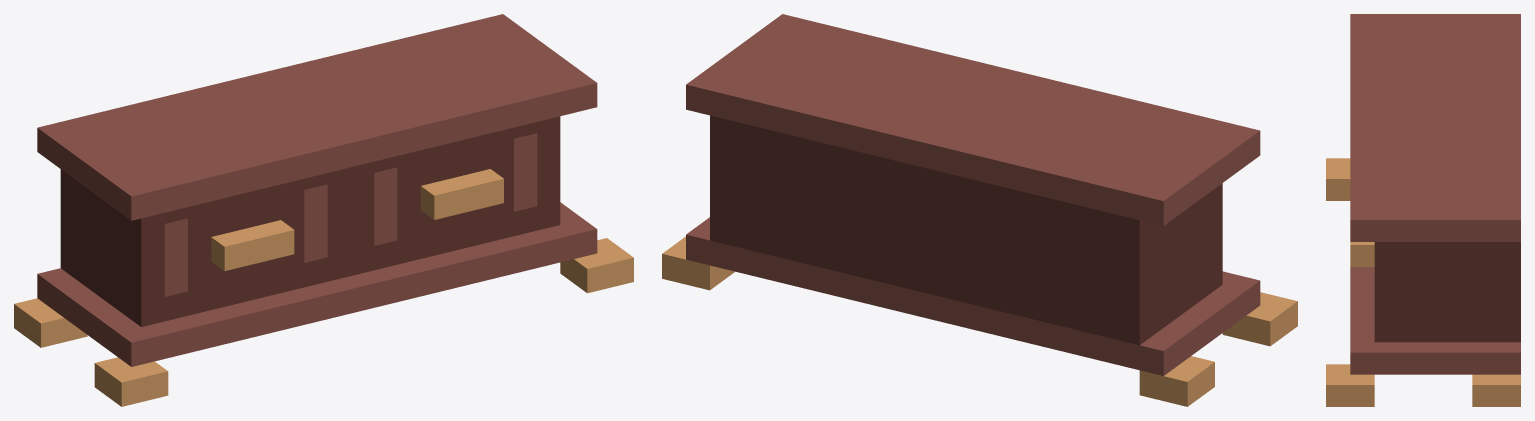
Rendered from CabinetSmallWide.obj.
3 renders of one model, left to right at view 1: azimuth 30°, elevation 25°; view 2: azimuth 150°, elevation 25°; view 3: azimuth 270°, elevation 25°, orthographic. The views are drawn at different scales.
Bounding box in the file's own units: 22 × 8 × 8.
1 material, 1 textured.
